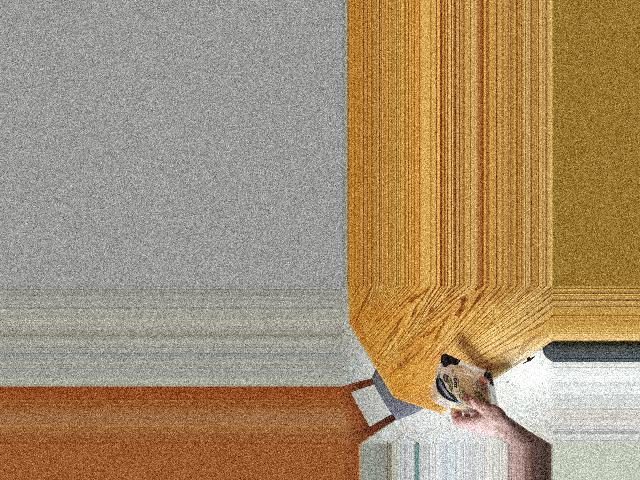cheese: (435, 358, 504, 409)
